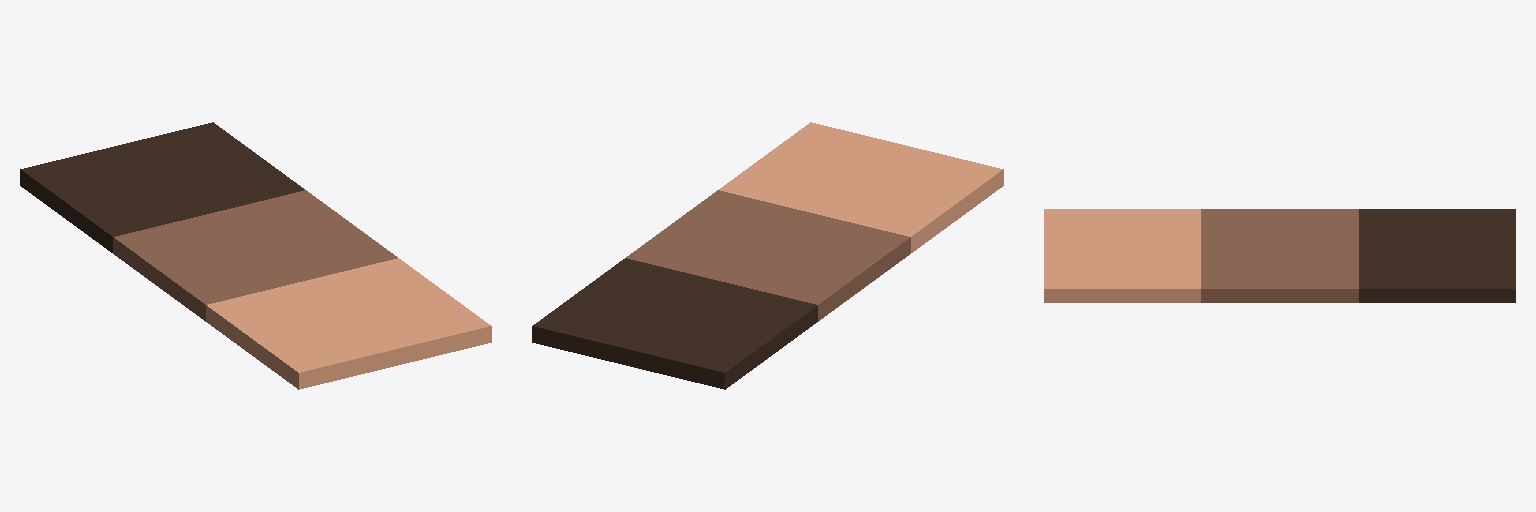
robot.urdf — stand.urdf:
<?xml version="0.0" ?>
<robot name="stand.urdf">
  <link name="baseLink">
    <contact>
      <lateral_friction value="1.0"/>
      <rolling_friction value="0.0001"/>
      <inertia_scaling value="3.0"/>
    </contact>
    <inertial>
      <origin rpy="0 0 0" xyz="0 0 0"/>
       <mass value=".1"/>
       <inertia ixx="1" ixy="0" ixz="0" iyy="1" iyz="0" izz="1"/>
    </inertial>
    <visual>
      <origin rpy="0 0 0" xyz="0 0 0"/>
      <geometry>
        <box size=".06 .05 .005"/>
      </geometry>
      <material name="brown">
        <color rgba="0.61176471 0.45882353 0.37254902 1"/>
      </material>
    </visual>
    <collision>
      <origin rpy="0 0 0" xyz="0 0 0"/>
      <geometry>
        <box size=".06 .05 .005"/>
      </geometry>
    </collision>
  </link>

  <link name="base1">
    <inertial>
      <origin rpy="0 0 0" xyz="0 0 0"/>
       <mass value=".1"/>
       <inertia ixx="1" ixy="0" ixz="0" iyy="1" iyz="0" izz="1"/>
    </inertial>
    <visual>
      <origin rpy="0 0 0" xyz="0 -0.05 0"/>
      <geometry>
        <box size=".06 .05 .005"/>
      </geometry>
      <material name="lightbrown">
        <color rgba="0.91764706 0.68823529 0.55882353 1"/>
      </material>
    </visual>
    <collision>
      <origin rpy="0 0 0" xyz="0 -0.05 0"/>
      <geometry>
        <box size=".06 .05 .005"/>
      </geometry>
    </collision>
  </link>
  <joint name="baseLink-base1" type="fixed">
    <origin xyz="0 0 0" rpy="0 0 0"/>
    <parent link="baseLink"/>
    <child link="base1"/>
  </joint>

  <link name="base2">
    <inertial>
      <origin rpy="0 0 0" xyz="0 0 0"/>
       <mass value=".1"/>
       <inertia ixx="1" ixy="0" ixz="0" iyy="1" iyz="0" izz="1"/>
    </inertial>
    <visual>
      <origin rpy="0 0 0" xyz="0 0.05 0"/>
      <geometry>
        <box size=".06 .05 .005"/>
      </geometry>
      <material name="darkbrown">
        <color rgba="0.30588235 0.22941176 0.18627451 1"/>
      </material>
    </visual>
    <collision>
      <origin rpy="0 0 0" xyz="0 0.05 0"/>
      <geometry>
        <box size=".06 .05 .005"/>
      </geometry>
    </collision>
  </link>
  <joint name="baseLink-base2" type="fixed">
    <origin xyz="0 0 0" rpy="0 0 0"/>
    <parent link="baseLink"/>
    <child link="base2"/>
  </joint>

</robot>

--- What the picture shows (computed from the rendered views, not written in the file) ---
The picture shows the robot from 3 angles, left to right: view 1: azimuth 30°, elevation 25°; view 2: azimuth 150°, elevation 25°; view 3: azimuth 270°, elevation 25°; orthographic projection.
Robot: stand.urdf — 3 links, 2 joints (2 fixed); root link baseLink; default pose: every joint at zero.
Links seen in each view (by area): view 1: base1, baseLink, base2; view 2: base2, baseLink, base1; view 3: baseLink, base1, base2.
Link boxes in pixels (box(x1,y1,x2,y2)): base1: box(206, 258, 491, 389); baseLink: box(113, 190, 397, 321); base2: box(20, 122, 304, 252); base2: box(532, 258, 817, 389); baseLink: box(626, 190, 910, 321); base1: box(719, 122, 1003, 252); baseLink: box(1201, 209, 1358, 302); base1: box(1044, 209, 1200, 302); base2: box(1359, 209, 1515, 302).
Size in the robot's own frame: 0.06 by 0.15 by 0.005 metres.
Geometry: primitives only (box / cylinder / sphere), no mesh files.